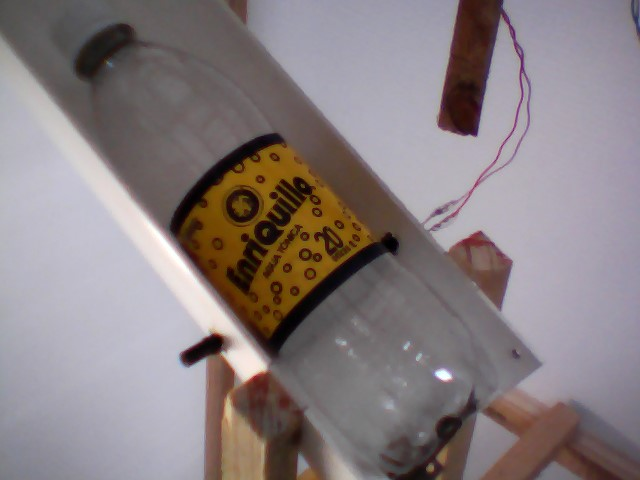plastico: (43, 5, 506, 478)
